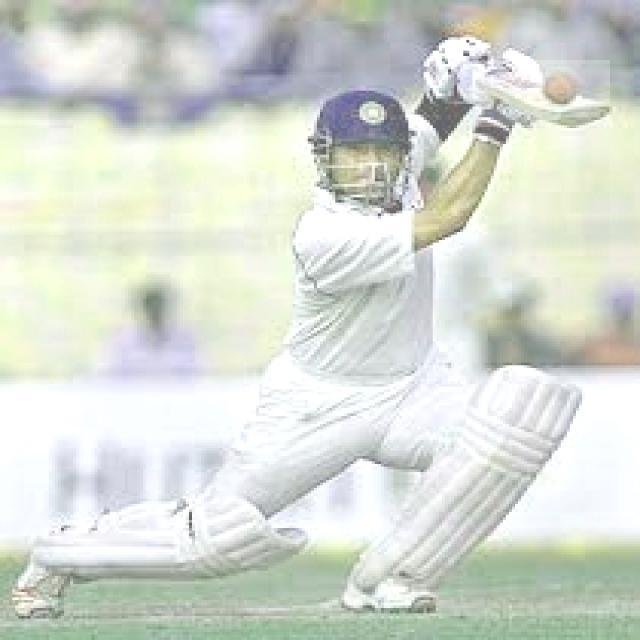bat: (460, 63, 613, 131)
toe: (554, 105, 607, 126)
